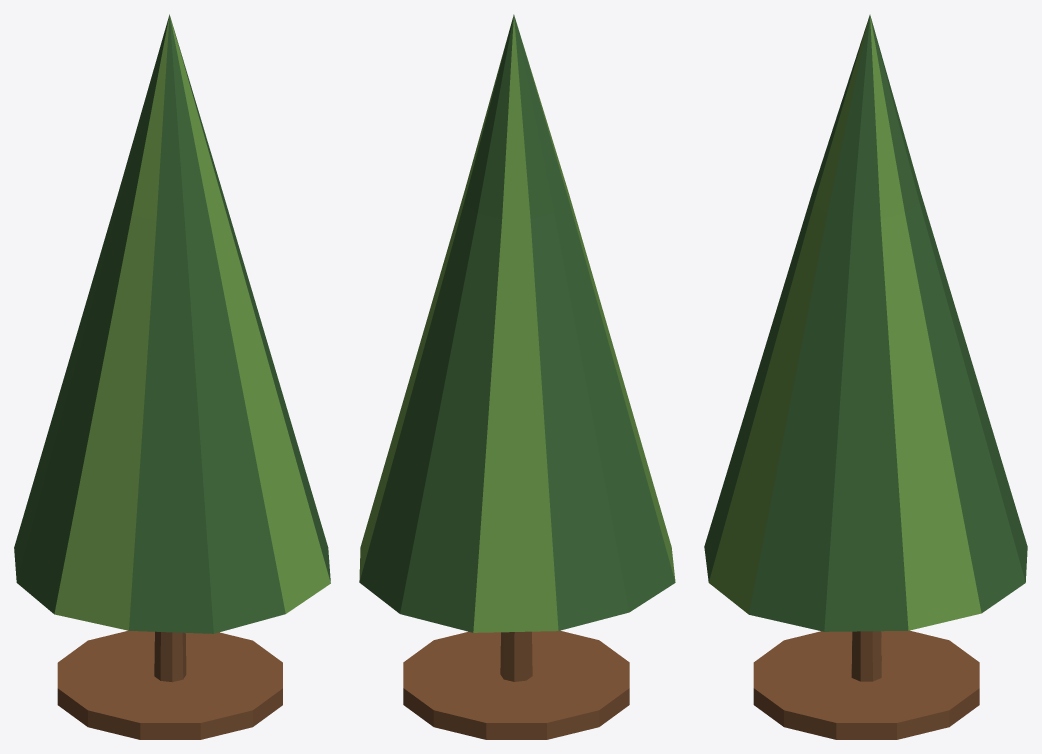
Rendered from FMS_Garden_Topiary_Cone.fbx.
3 renders of one model, left to right at view 1: azimuth 30°, elevation 25°; view 2: azimuth 150°, elevation 25°; view 3: azimuth 270°, elevation 25°, orthographic.
Parts seen in each view (by area): view 1: FMS_Garden_Topiary_Cone_Body; view 2: FMS_Garden_Topiary_Cone_Body; view 3: FMS_Garden_Topiary_Cone_Body.
Boxes of the visible parts, x1,y1,x2,y2 form: FMS_Garden_Topiary_Cone_Body: (14,14,330,739); FMS_Garden_Topiary_Cone_Body: (359,14,675,739); FMS_Garden_Topiary_Cone_Body: (704,14,1027,739).
Size of the model in its own units: 0.6778 by 1.6 by 0.691.
Materials: 1 (1 with a texture image).
